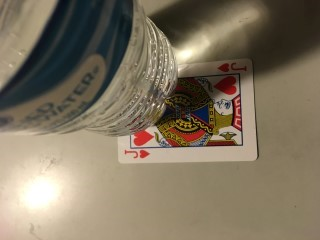JackOfHearts: (117, 58, 259, 163)
